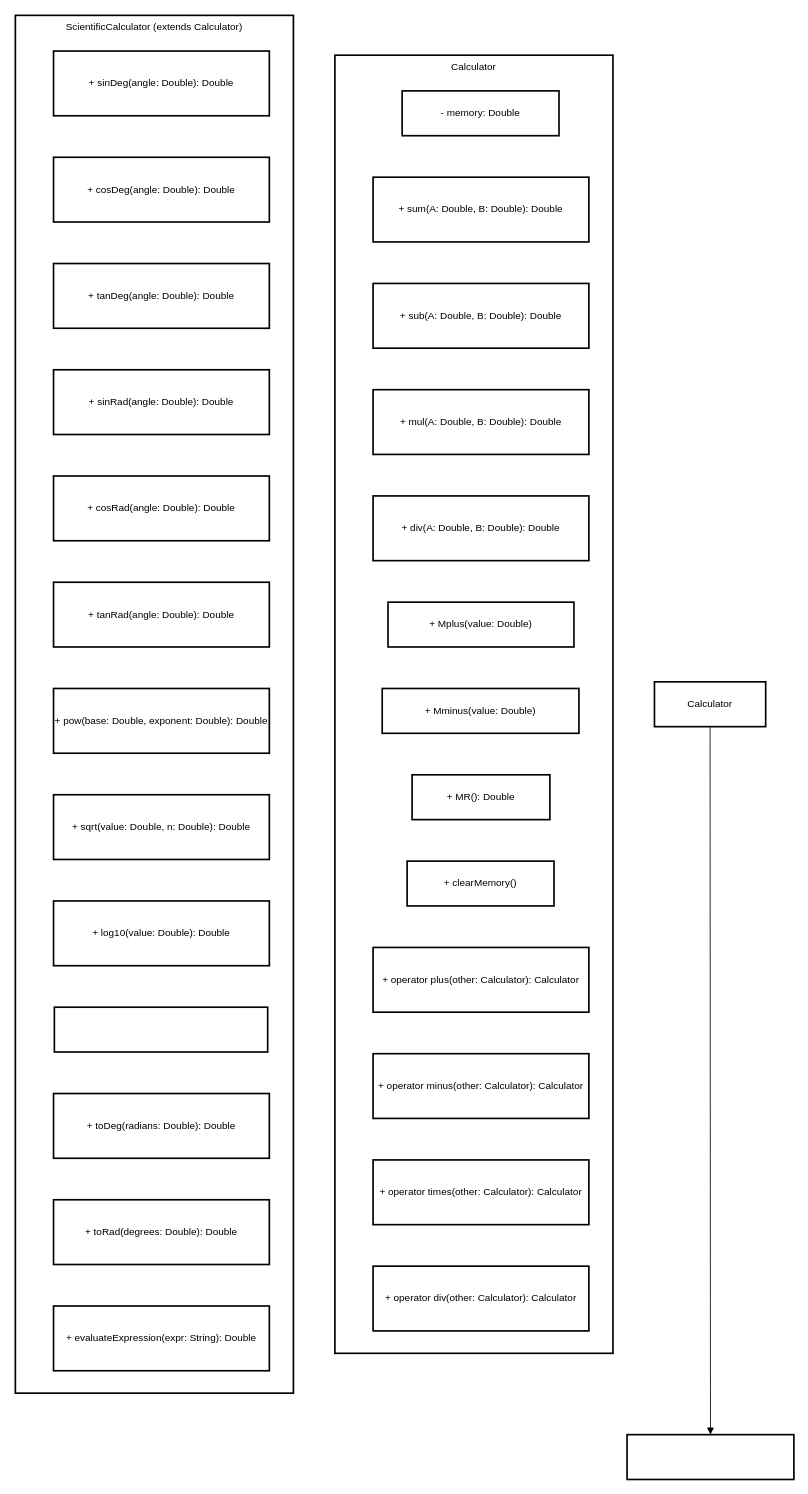
Some shapes in this 808 by 1494 pixel diagram are drawn without their labels. The box of each missing label's shape, as (x1, y1, x2, y2) in pixels:
+ ln(value: Double): Double: (53, 1006, 268, 1052)
ScientificCalculator: (626, 1433, 794, 1480)
